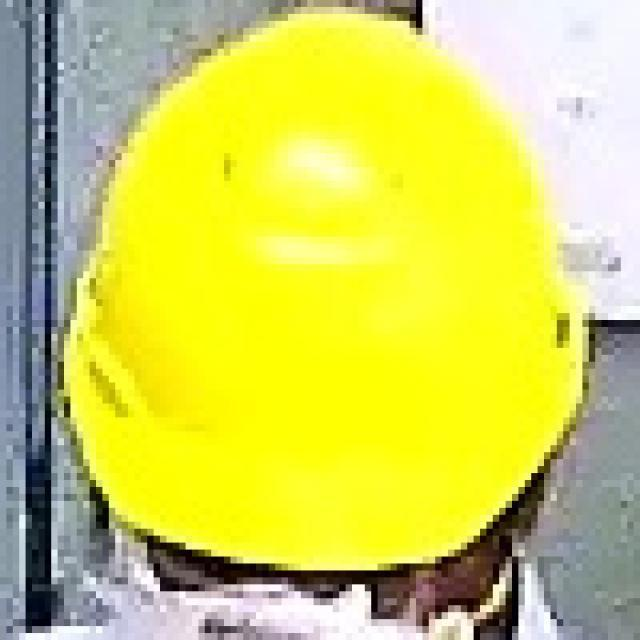yellow helmet: (62, 2, 587, 568)
